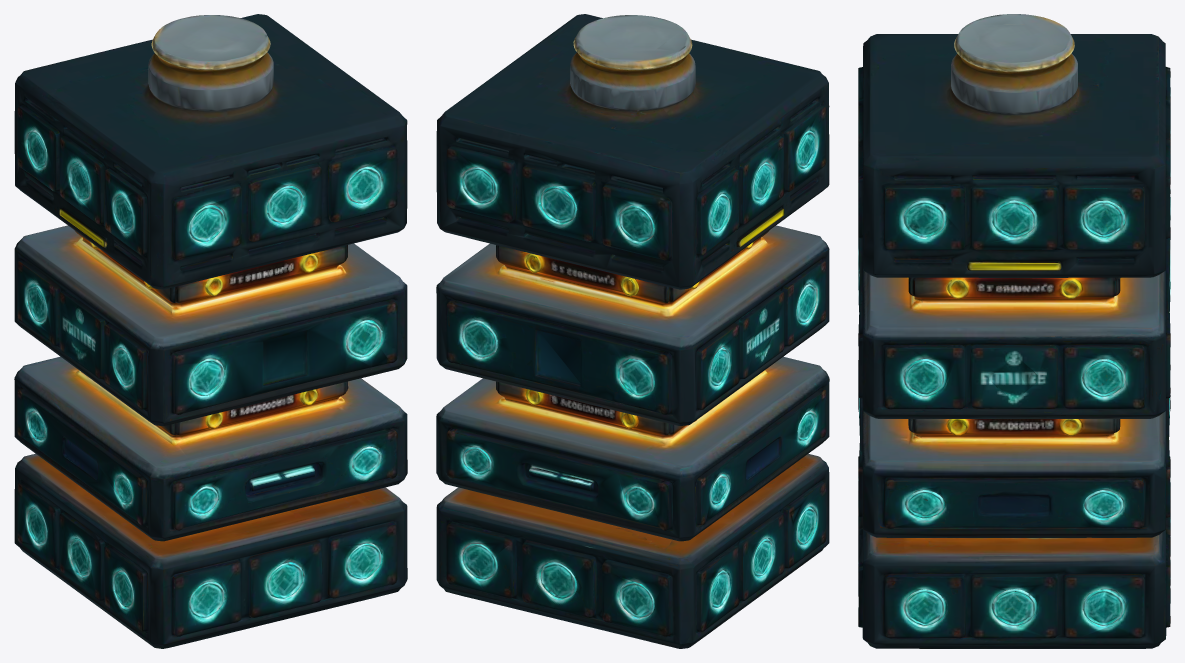
Rendered from hero-farm-sky-structure.glb.
3 renders of one model, left to right at view 1: azimuth 30°, elevation 25°; view 2: azimuth 150°, elevation 25°; view 3: azimuth 270°, elevation 25°, orthographic. The views are drawn at different scales.
Parts seen in each view (by area): view 1: node_0; view 2: node_0; view 3: node_0.
Boxes of the visible parts, <box> form: node_0: <box>14,14,407,648</box>; node_0: <box>436,14,829,648</box>; node_0: <box>858,14,1170,648</box>.
Bounding box in the file's own units: 0.5172 × 1 × 0.5164.
Materials: 1 (1 with a texture image).
